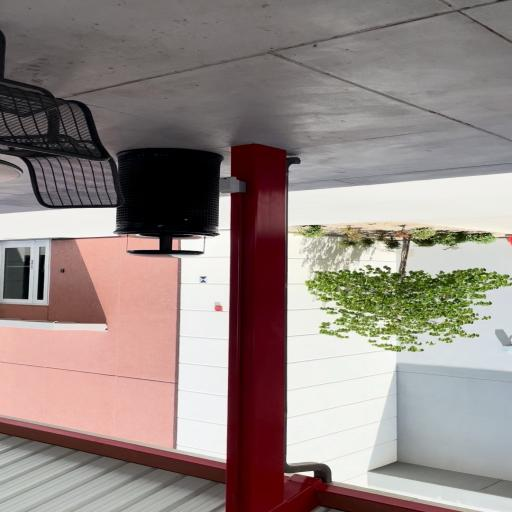target2: (199, 276, 208, 283)
